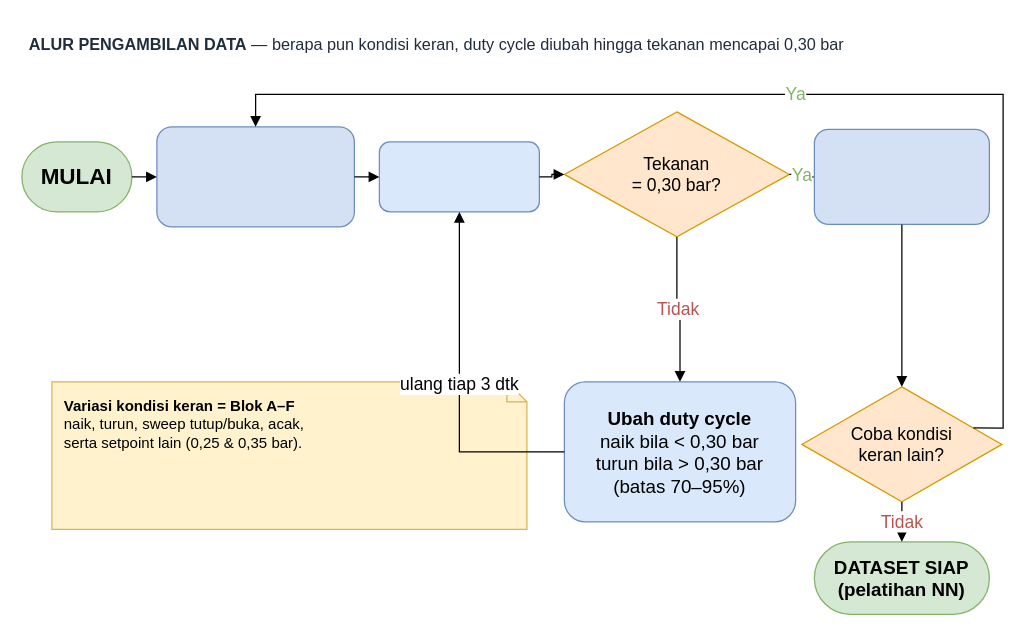
Image size: 1035x636. Some labels were removed from this diagram. The shapes that lost their labels are listed below. From the top down, each one's centre as x and y in pixels, then its label:
At point 255,176: "Atur kondisi keran (0–4, bebas) = gangguan".
At point 458,176: "Baca tekanan air (sensor)".
At point 901,176: "Tekanan stabil di 0,30 bar → simpan data".
